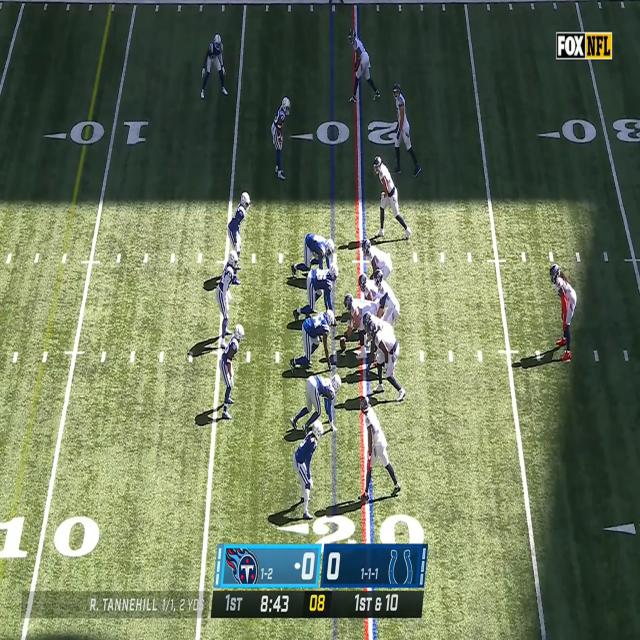football: (340, 339, 347, 352)
players: (359, 396, 400, 500), (292, 422, 325, 522), (366, 322, 406, 402), (372, 155, 409, 240), (292, 374, 342, 434), (391, 81, 422, 177), (291, 310, 336, 373), (347, 28, 382, 104), (550, 264, 577, 362), (294, 262, 338, 322), (218, 325, 246, 419), (216, 250, 239, 348), (344, 296, 375, 362), (292, 234, 336, 278), (200, 36, 229, 99), (271, 98, 292, 180), (362, 234, 393, 282), (228, 194, 250, 256), (376, 272, 400, 322)
